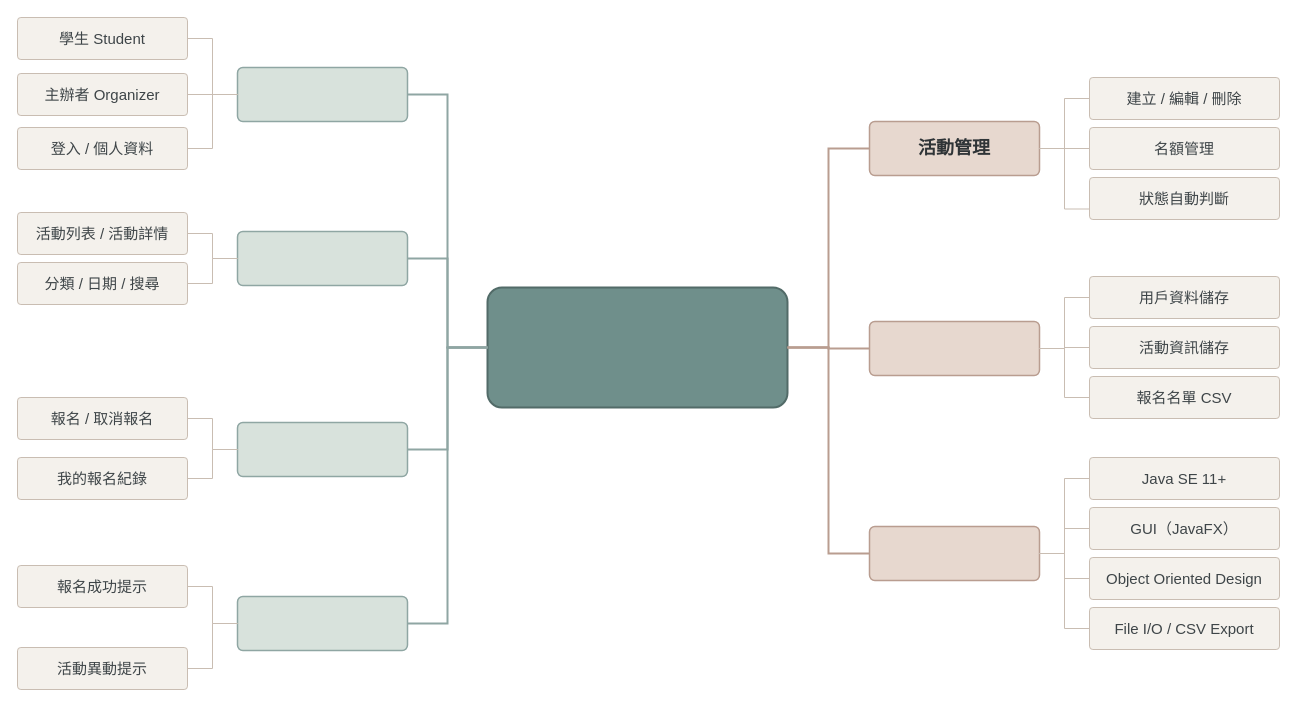
The diagram is 1297 pixels wide and 707 high, and some of its shapes have lost their labels. Each missing label, with the centre of its shape:
Campus Event Management System 校園活動管理系統: (637,347)
使用者與權限: (322,94)
報名參與: (322,449)
活動資訊: (322,258)
系統提示: (322,623)
資料與匯出: (954,348)
開發與執行環境: (954,553)
